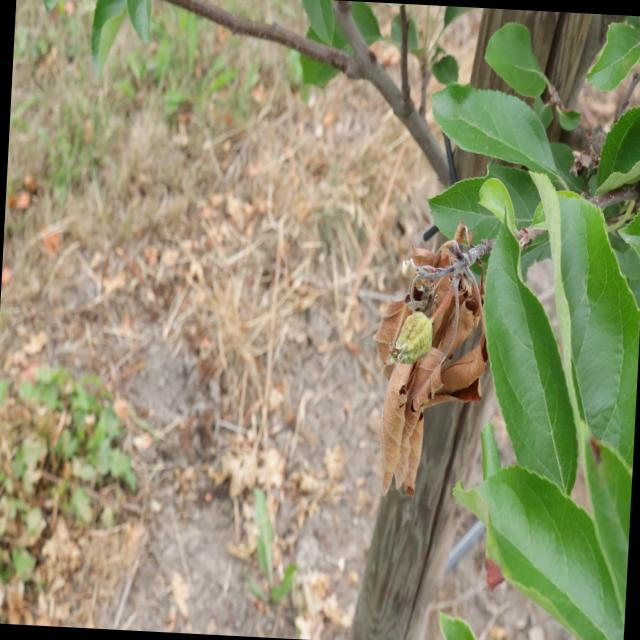-FireBlight-: (360, 232, 496, 498)
